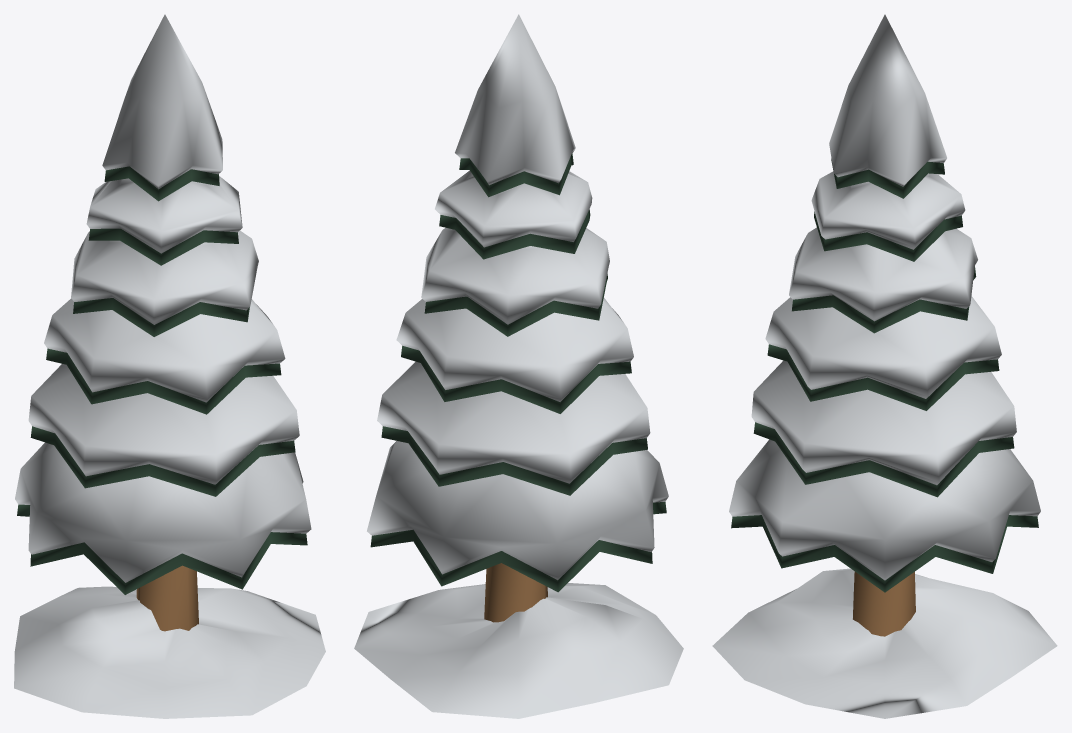
Rendered from Pino.glb.
3 renders of one model, left to right at view 1: azimuth 30°, elevation 25°; view 2: azimuth 150°, elevation 25°; view 3: azimuth 270°, elevation 25°, orthographic.
Parts seen in each view (by area): view 1: Pino; view 2: Pino; view 3: Pino.
Boxes of the visible parts, x1,y1,x2,y2 form: Pino: (14, 14, 325, 718); Pino: (354, 14, 683, 718); Pino: (712, 14, 1057, 718).
Bounding box in the file's own units: 1.2 × 2.42 × 1.2.
